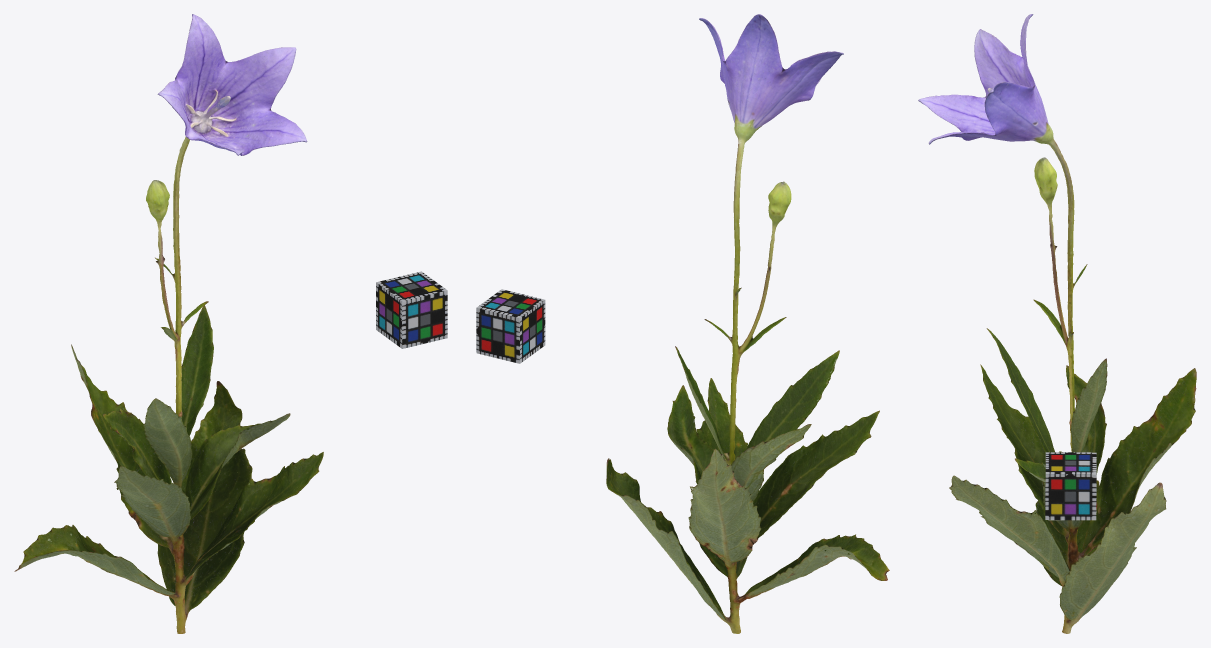
The picture shows the model from 3 angles, left to right: view 1: azimuth 30°, elevation 25°; view 2: azimuth 150°, elevation 25°; view 3: azimuth 270°, elevation 25°; orthographic projection. The views are drawn at different scales.
Parts seen in each view (by area): view 1: QS1316-W01-1all-2_5, Cube_2; view 2: QS1316-W01-1all-2_5, Cube_2; view 3: QS1316-W01-1all-2_5, Cube_2.
Part boxes in pixels (x1,y1,x2,y2): QS1316-W01-1all-2_5: (14,14,323,633); Cube_2: (376,271,447,348); QS1316-W01-1all-2_5: (606,14,889,633); Cube_2: (476,289,545,363); QS1316-W01-1all-2_5: (918,14,1196,633); Cube_2: (1045,452,1096,520).
Bounding box in the file's own units: 6.89 × 9.97 × 4.09.
2 materials, 2 textured.
